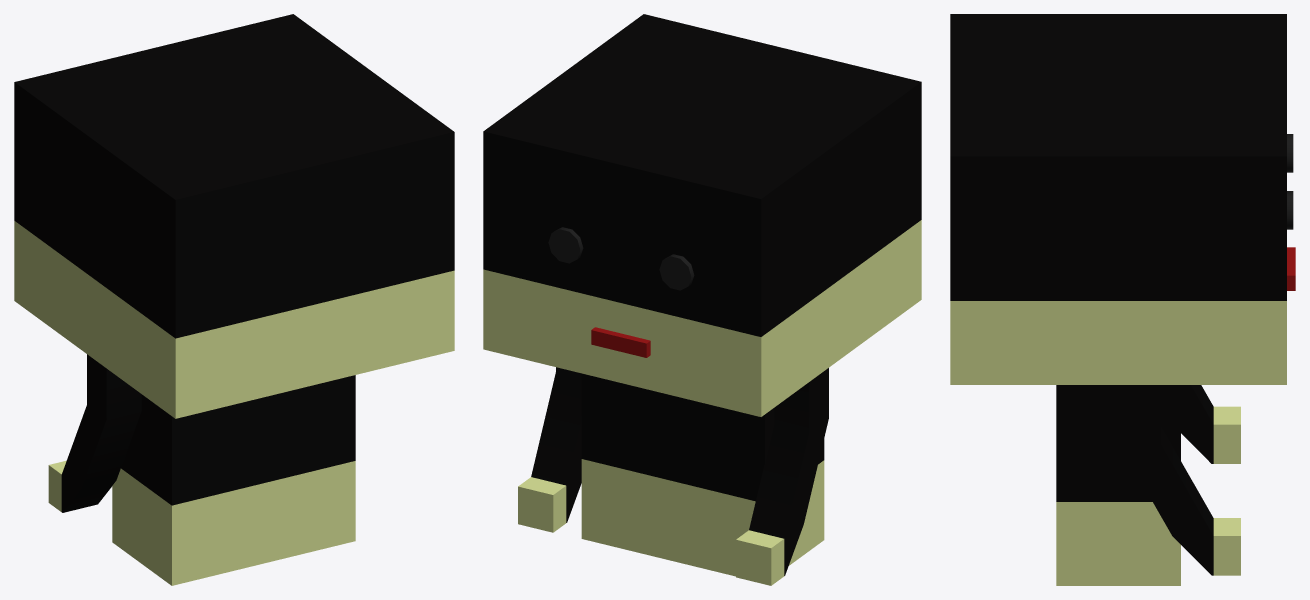
Rendered from player.FBX.
The picture shows the model from 3 angles, left to right: view 1: azimuth 30°, elevation 25°; view 2: azimuth 150°, elevation 25°; view 3: azimuth 270°, elevation 25°; orthographic projection. The views are drawn at different scales.
Parts seen in each view (by area): view 1: Box007, Box010, Box006; view 2: Box007, Box010, Box006, Box009, Box008, Cylinder002, Cylinder001; view 3: Box007, Box010, Box009, Box006.
Boxes of the visible parts, x1=… form: Box007: x1=14, y1=14, x2=454, y2=418; Box010: x1=112, y1=375, x2=355, y2=585; Box006: x1=48, y1=354, x2=141, y2=512; Box007: x1=483, y1=14, x2=921, y2=416; Box010: x1=581, y1=373, x2=824, y2=576; Box006: x1=736, y1=368, x2=828, y2=585; Box009: x1=518, y1=367, x2=581, y2=532; Box008: x1=591, y1=327, x2=650, y2=357; Cylinder002: x1=659, y1=254, x2=694, y2=290; Cylinder001: x1=548, y1=227, x2=583, y2=263; Box007: x1=950, y1=14, x2=1286, y2=384; Box010: x1=1056, y1=385, x2=1180, y2=585; Box009: x1=1119, y1=385, x2=1240, y2=575; Box006: x1=1181, y1=385, x2=1240, y2=463.
Bounding box in the file's own units: 20 × 29.77 × 20.5.
